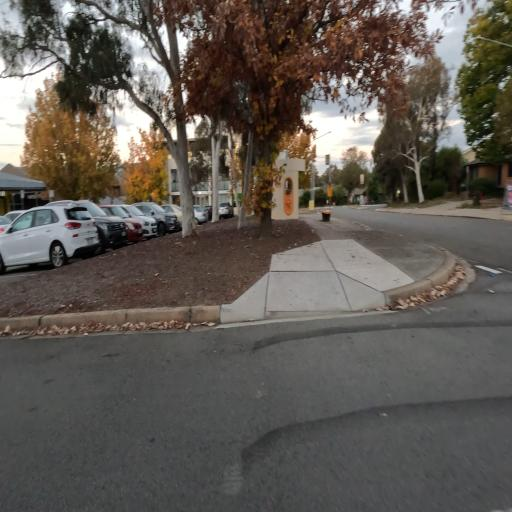kerb_cut: (254, 273, 383, 330)
